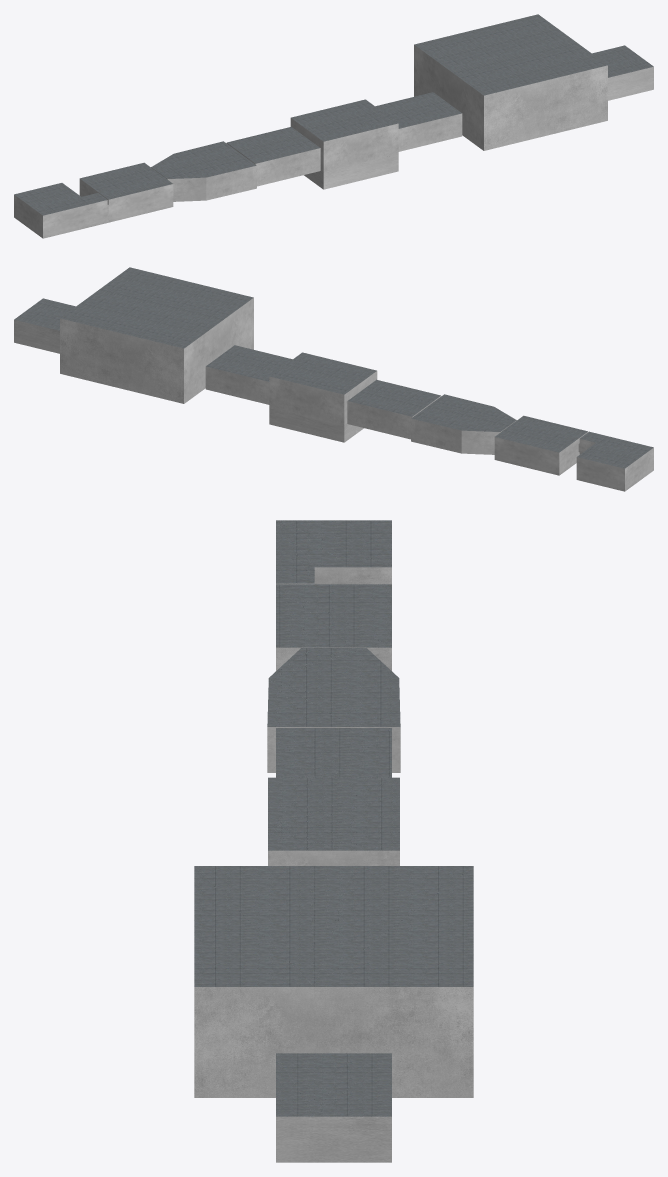
Rendered from odalarson.fbx.
3 renders of one model, top to bottom at view 1: azimuth 30°, elevation 25°; view 2: azimuth 150°, elevation 25°; view 3: azimuth 270°, elevation 25°, orthographic. The views are drawn at different scales.
Visible parts, largest first — view 1: Tavanlar, Oda6_duvar, Oda5_duvar, Oda1_duvar, Oda3_duvar, Oda2_duvar, Oda5_Altduvar, Oda4_duvar, Oda5,5, Oda7_duvar; view 2: Tavanlar, Oda6_duvar, Oda5_duvar, Oda2_duvar, Oda3_duvar, Oda1_duvar, Oda4_duvar, Oda5,5, Oda5_Altduvar, Oda7_duvar; view 3: Tavanlar, Oda6_duvar, Oda7_duvar, Oda5_duvar, Oda1_duvar, Oda3_duvar.
Part boxes in pixels (box(x1,y1,x2,y2)): Tavanlar: box(14, 14, 653, 215); Oda6_duvar: box(414, 45, 607, 150); Oda5_duvar: box(290, 118, 398, 171); Oda1_duvar: box(14, 194, 107, 238); Oda3_duvar: box(151, 165, 256, 201); Oda2_duvar: box(79, 179, 173, 222); Oda5_Altduvar: box(304, 154, 398, 189); Oda4_duvar: box(226, 143, 320, 186); Oda5,5: box(398, 113, 462, 151); Oda7_duvar: box(608, 66, 653, 100); Tavanlar: box(14, 267, 653, 468); Oda6_duvar: box(60, 298, 253, 403); Oda5_duvar: box(269, 371, 377, 426); Oda2_duvar: box(494, 432, 587, 475); Oda3_duvar: box(411, 418, 516, 454); Oda1_duvar: box(576, 439, 653, 491); Oda4_duvar: box(347, 396, 441, 439); Oda5,5: box(205, 366, 269, 404); Oda5_Altduvar: box(269, 408, 363, 442); Oda7_duvar: box(14, 319, 59, 353); Tavanlar: box(194, 520, 473, 1116); Oda6_duvar: box(194, 987, 473, 1097); Oda7_duvar: box(276, 1116, 391, 1162); Oda5_duvar: box(268, 850, 399, 865); Oda1_duvar: box(276, 567, 391, 584); Oda3_duvar: box(267, 727, 400, 772).
Size of the model in its own units: 14144 by 1615 by 2799.
